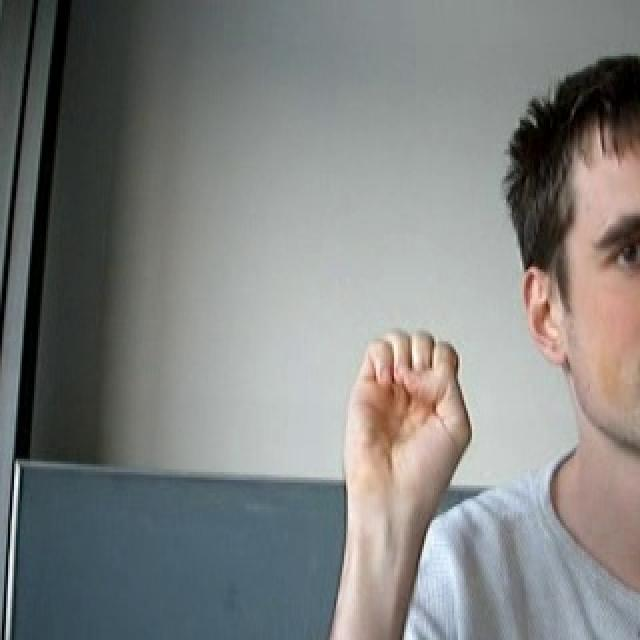E: (329, 324, 482, 528)
